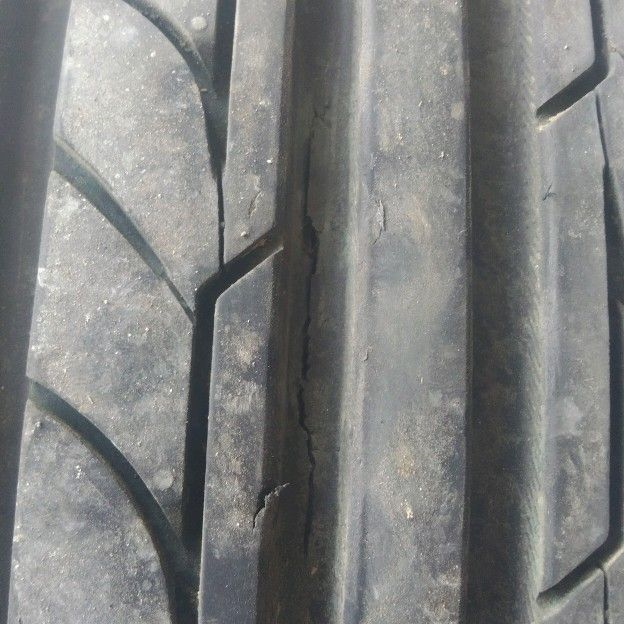tr: (295, 128, 323, 566)
